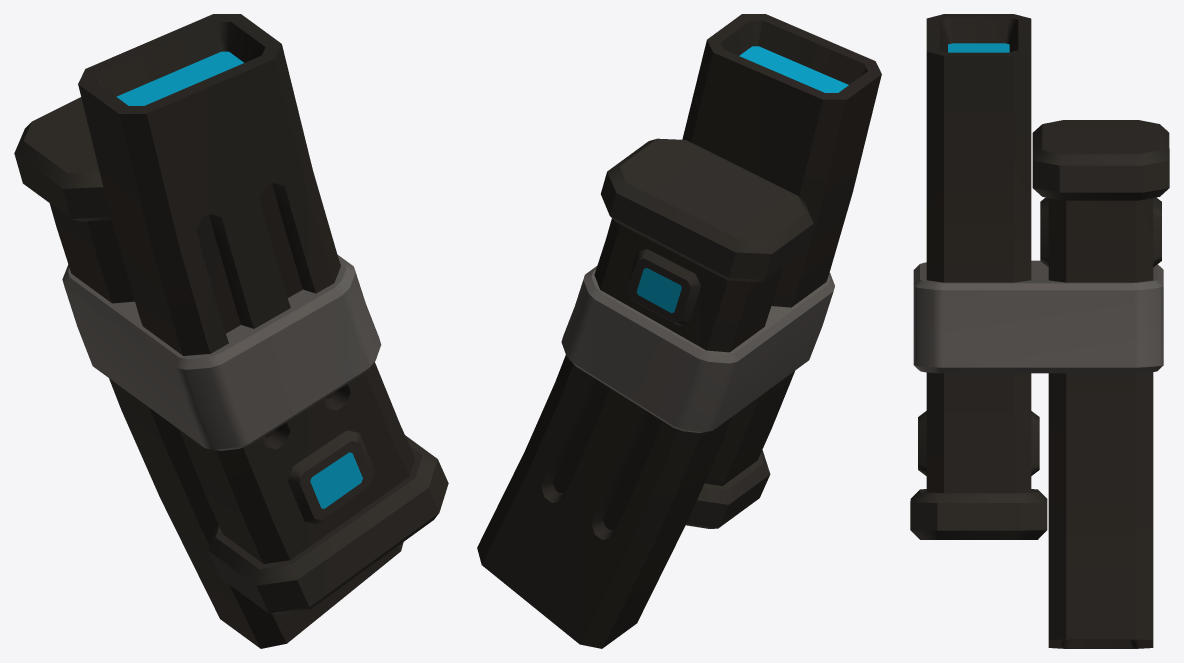
The model's file is SMG3_MagazineExtended.fbx.
3 renders of one model, left to right at view 1: azimuth 30°, elevation 25°; view 2: azimuth 150°, elevation 25°; view 3: azimuth 270°, elevation 25°, orthographic. The views are drawn at different scales.
Parts seen in each view (by area): view 1: SMG3_MagazineExtended; view 2: SMG3_MagazineExtended; view 3: SMG3_MagazineExtended.
Boxes of the visible parts, x1,y1,x2,y2 form: SMG3_MagazineExtended: (14,14,448,648); SMG3_MagazineExtended: (477,14,881,648); SMG3_MagazineExtended: (910,14,1169,648).
Bounding box in the file's own units: 9.97 × 17.76 × 7.29.
